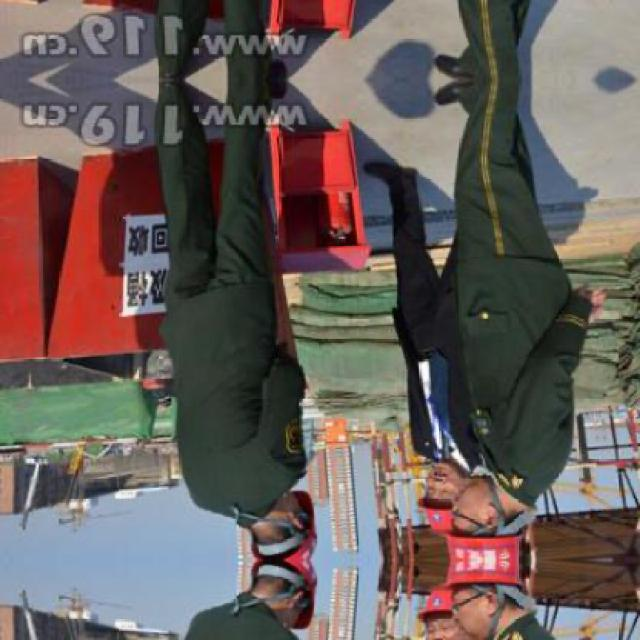con casco: (214, 476, 336, 566), (393, 435, 472, 538), (451, 487, 536, 570)
